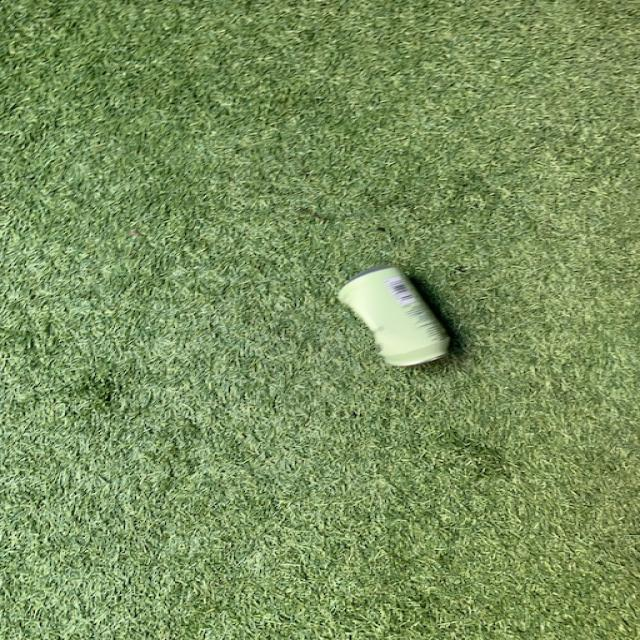litter: (334, 269, 456, 372)
